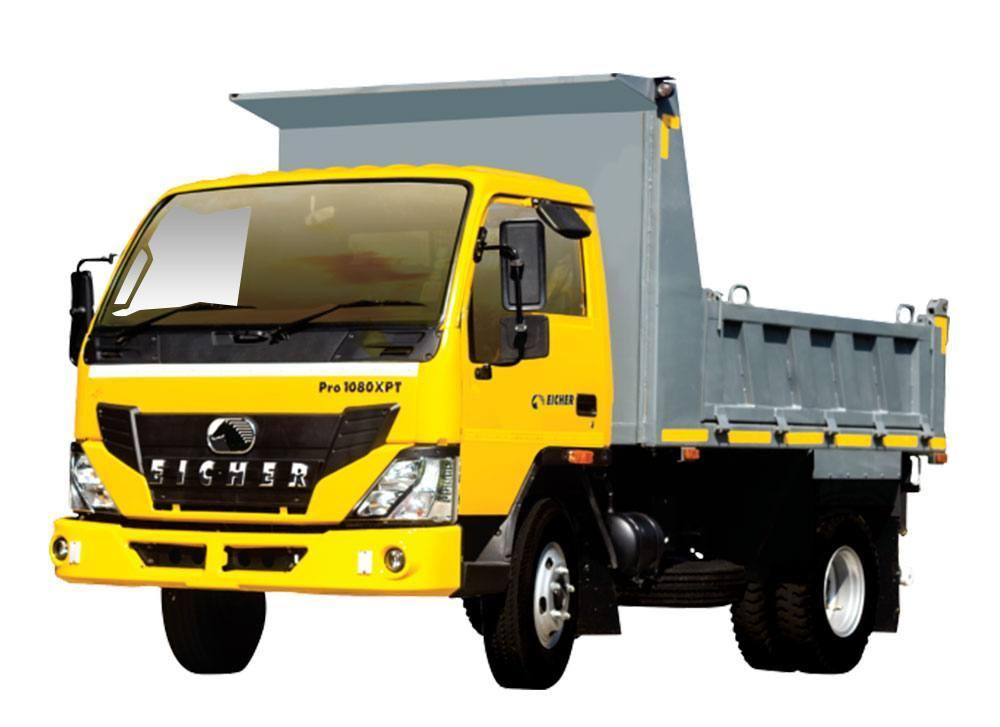truck: (47, 72, 948, 691)
